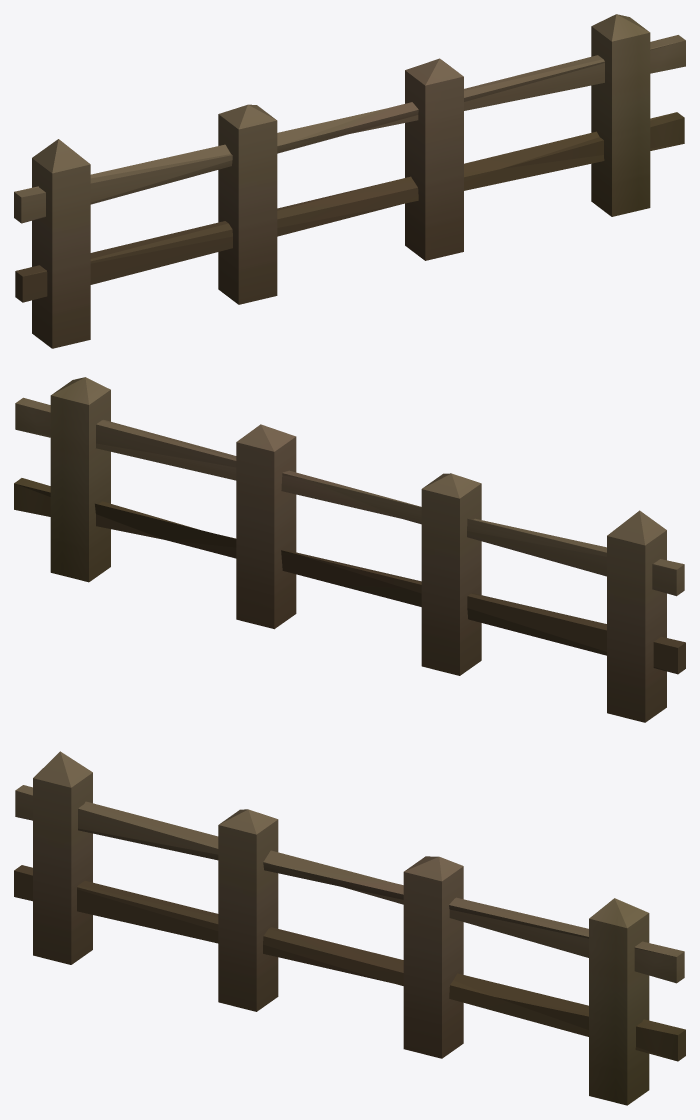
File: rail_fence.glb
The picture shows the model from 3 angles, top to bottom: view 1: azimuth 30°, elevation 25°; view 2: azimuth 150°, elevation 25°; view 3: azimuth 330°, elevation 25°; orthographic projection.
Parts seen in each view (by area): view 1: rail_fence; view 2: rail_fence; view 3: rail_fence.
Part boxes in pixels (x1,y1,x2,y2): rail_fence: [14, 14, 685, 348]; rail_fence: [14, 377, 685, 722]; rail_fence: [14, 751, 685, 1105].
Size of the model in its own units: 4 by 1.15 by 0.2748.
1 material, 1 textured.
